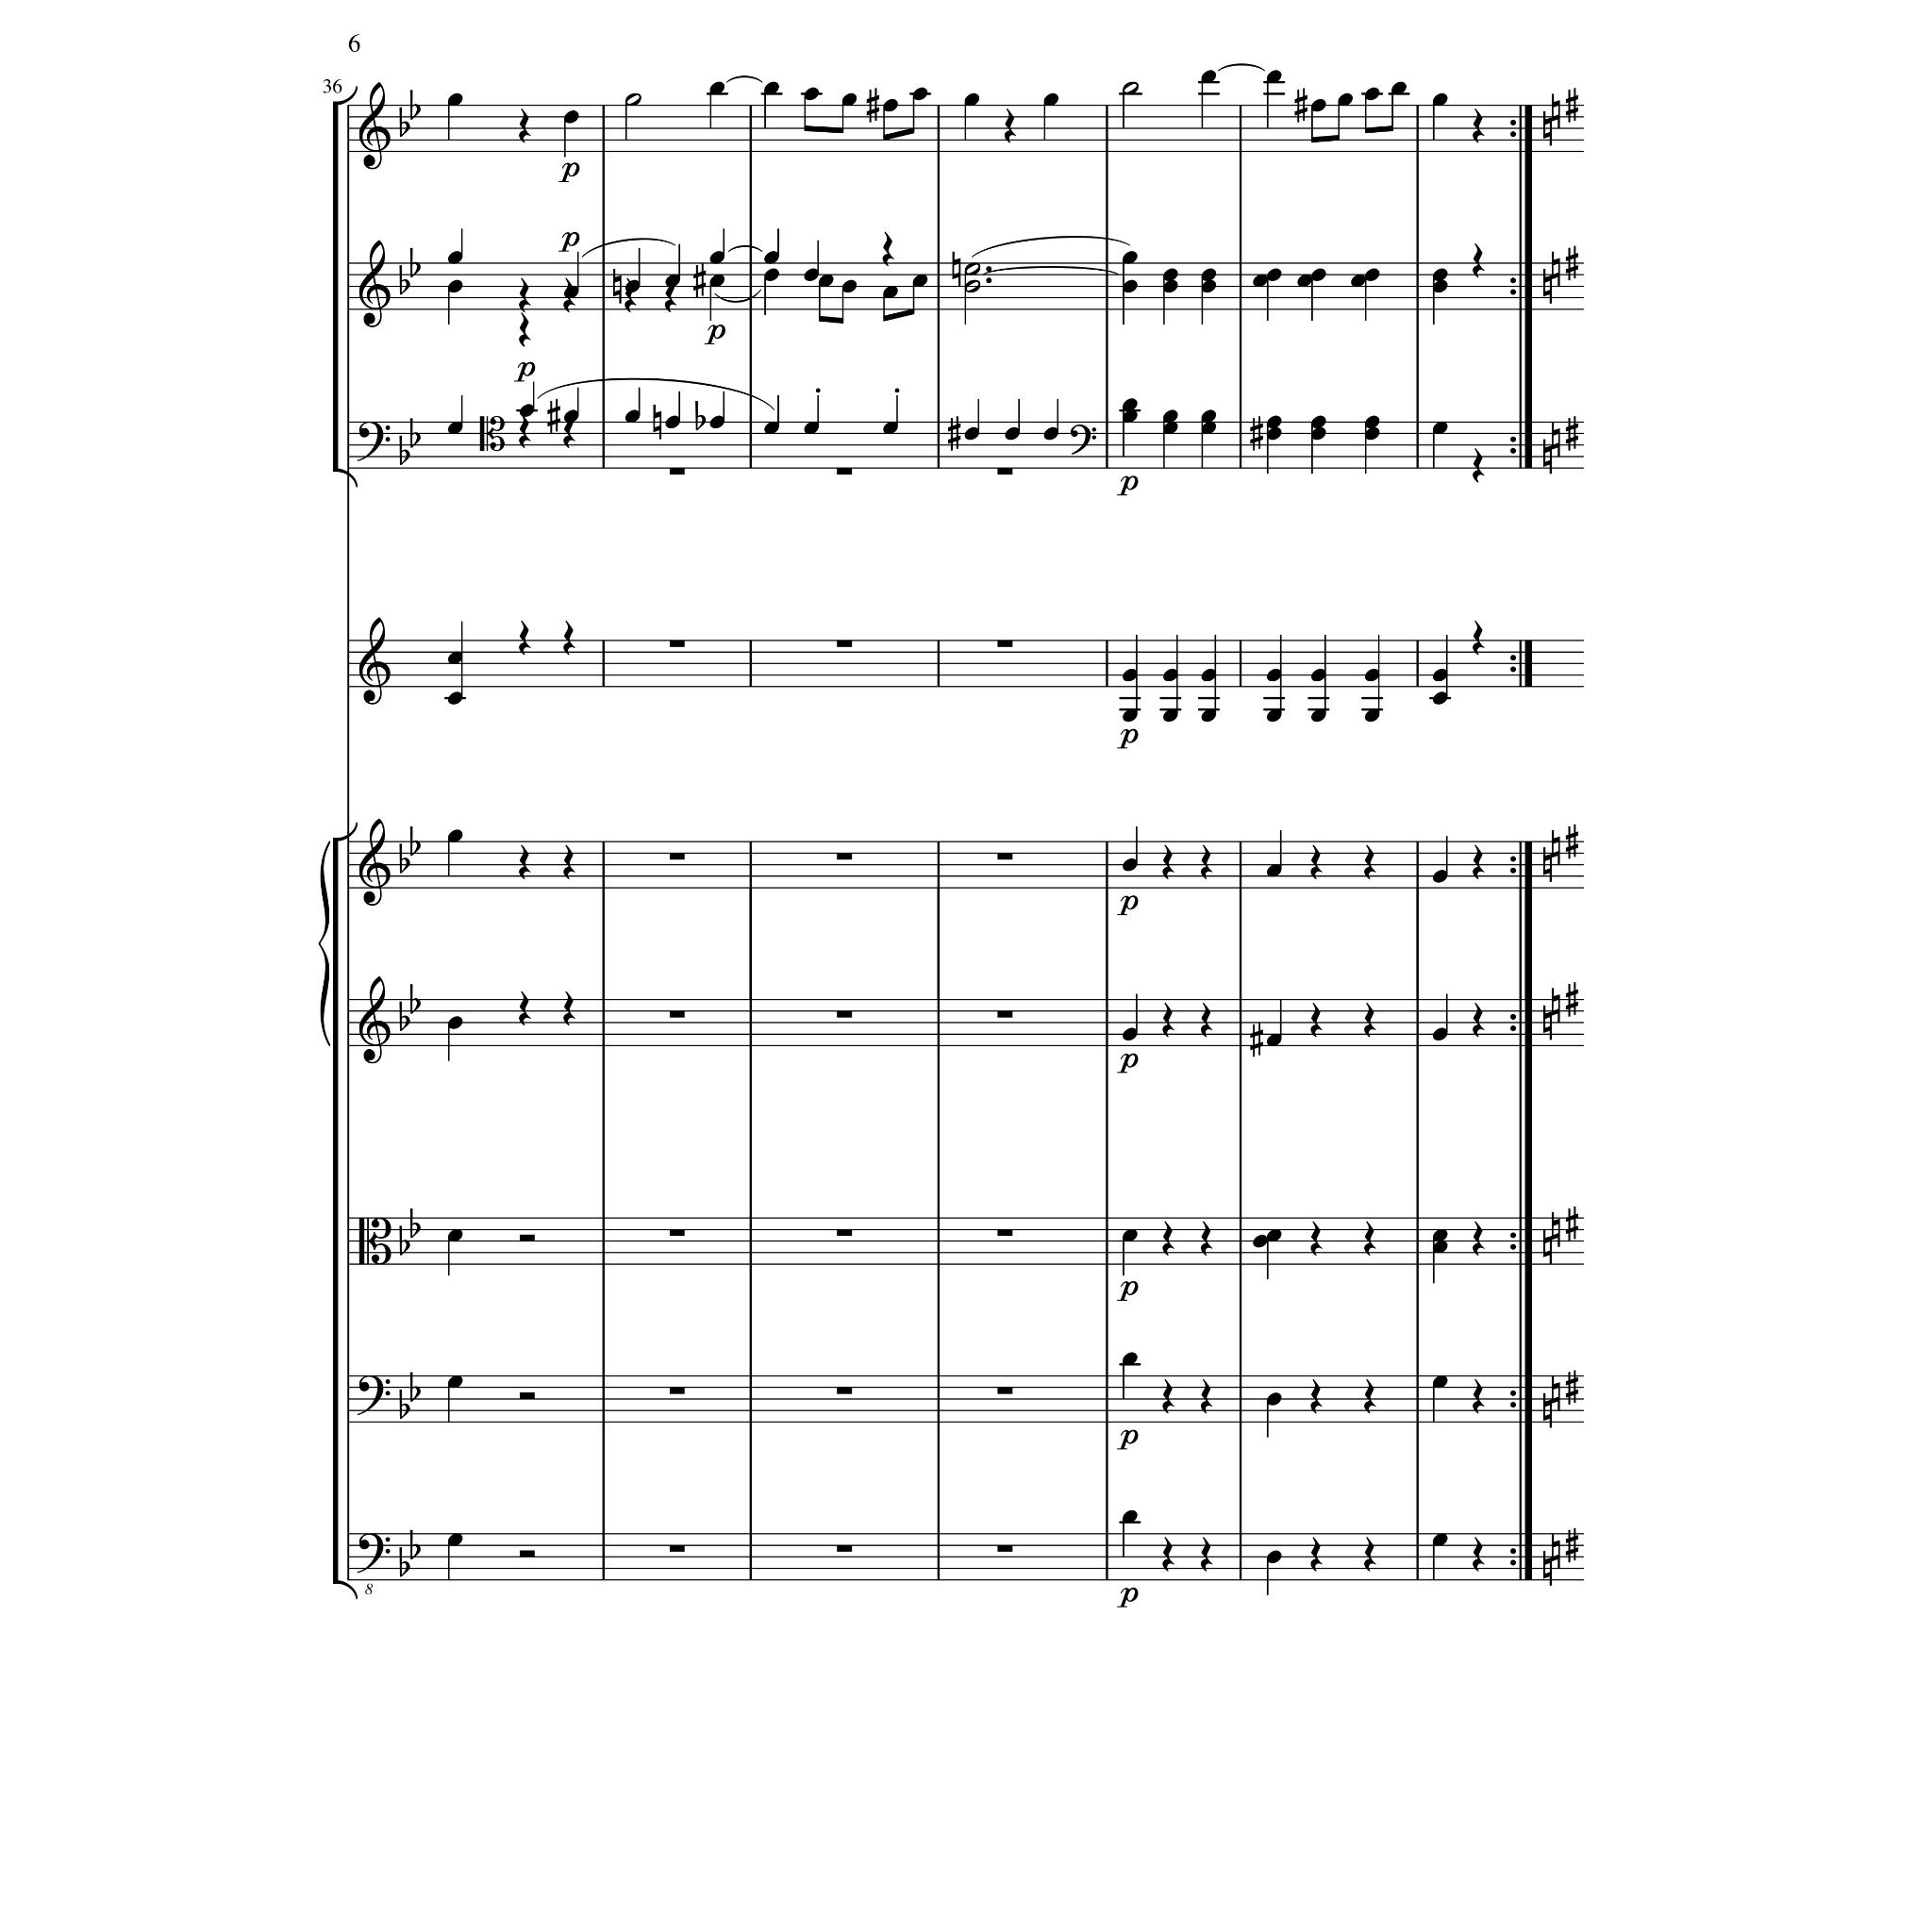brace: (317, 840, 330, 1047)
fClef: (357, 421, 391, 462), (357, 1534, 391, 1574), (357, 1375, 391, 1415)
gClef: (358, 818, 391, 907), (358, 975, 391, 1064), (358, 617, 391, 706), (358, 240, 391, 328), (358, 82, 391, 171)
noteheadBlack: (1162, 409, 1179, 425), (1200, 409, 1217, 425), (1200, 70, 1217, 85), (1266, 70, 1281, 85), (564, 409, 579, 425), (564, 285, 579, 300), (564, 109, 579, 125), (625, 409, 640, 425), (1123, 409, 1138, 425), (883, 285, 898, 300), (1309, 99, 1326, 112), (1309, 669, 1326, 682), (1296, 275, 1313, 288), (1309, 269, 1326, 282), (1309, 427, 1326, 441), (1309, 416, 1326, 429), (1309, 709, 1326, 723), (1162, 669, 1179, 682), (1162, 709, 1179, 723), (1162, 422, 1179, 435), (1162, 269, 1179, 282), (1162, 280, 1179, 293), (1200, 269, 1217, 282), (1200, 669, 1217, 682), (1200, 709, 1217, 723), (1200, 422, 1217, 435), (1200, 280, 1217, 293), (1391, 82, 1407, 95), (664, 416, 681, 429), (664, 275, 681, 288), (447, 251, 464, 264), (447, 93, 464, 107), (447, 280, 464, 293), (519, 405, 536, 418), (447, 1533, 464, 1546), (447, 1375, 464, 1389), (447, 1229, 464, 1242), (447, 1016, 464, 1029), (447, 830, 464, 843), (447, 652, 464, 665), (447, 691, 464, 705), (447, 422, 464, 435), (911, 275, 928, 288), (911, 88, 928, 101), (1004, 427, 1021, 441), (817, 275, 834, 288), (1253, 275, 1268, 288), (1266, 269, 1281, 282), (1266, 1392, 1281, 1406), (1266, 1551, 1281, 1564), (1266, 1229, 1281, 1242), (1253, 1235, 1268, 1248), (1266, 1034, 1281, 1047), (1266, 864, 1281, 877), (1266, 669, 1281, 682), (1266, 709, 1281, 723), (1266, 416, 1281, 429), (1266, 427, 1281, 441), (1432, 1241, 1447, 1254), (1432, 1028, 1447, 1041), (1432, 870, 1447, 883), (1432, 669, 1447, 682), (1432, 691, 1447, 705), (1432, 422, 1447, 435), (1432, 269, 1447, 282), (1432, 280, 1447, 293), (1432, 93, 1447, 107), (1364, 709, 1379, 723), (1364, 416, 1379, 429), (1364, 427, 1379, 441), (1364, 269, 1379, 282), (1351, 275, 1366, 288), (1364, 88, 1379, 101), (1364, 669, 1379, 682), (1338, 93, 1353, 107), (1432, 1229, 1447, 1242), (1432, 1533, 1447, 1546), (1432, 1375, 1447, 1389), (625, 280, 640, 293), (964, 427, 979, 441), (964, 93, 979, 107), (1123, 1510, 1138, 1524), (1123, 1353, 1138, 1366), (1123, 1229, 1138, 1242), (1123, 1028, 1138, 1041), (1043, 427, 1058, 441), (1043, 93, 1058, 107), (1123, 280, 1138, 293), (1123, 858, 1138, 872), (1123, 669, 1138, 682), (1123, 709, 1138, 723), (1123, 399, 1138, 412), (1123, 251, 1138, 264), (709, 416, 724, 429), (709, 275, 724, 288), (709, 251, 724, 264), (709, 82, 724, 95), (764, 422, 779, 435), (764, 269, 779, 282), (764, 251, 779, 264), (764, 82, 779, 95), (841, 280, 857, 293), (841, 93, 857, 107), (883, 422, 898, 435), (883, 99, 898, 112), (804, 422, 819, 435), (804, 88, 819, 101), (804, 269, 819, 282)
noteheadHalf: (625, 93, 641, 107), (964, 263, 981, 276), (964, 280, 981, 293), (1122, 82, 1139, 95)
restHalf: (519, 1550, 536, 1557), (519, 1392, 536, 1400), (519, 1234, 536, 1241)
restQuarter: (1309, 1537, 1323, 1573), (1309, 1378, 1323, 1414), (1309, 1221, 1323, 1257), (1309, 1002, 1323, 1038), (1162, 1002, 1175, 1038), (1162, 1537, 1175, 1573), (1162, 1378, 1175, 1414), (1162, 1221, 1175, 1257), (1200, 1537, 1213, 1573), (1200, 1378, 1213, 1414), (1200, 1221, 1213, 1257), (1200, 1002, 1213, 1038), (1472, 1537, 1485, 1573), (1472, 1378, 1485, 1414), (1472, 1221, 1485, 1257), (1472, 1002, 1485, 1038), (1472, 620, 1485, 656), (1472, 448, 1485, 484), (1472, 243, 1485, 279), (1472, 108, 1485, 144), (562, 991, 575, 1026), (562, 620, 575, 656), (562, 413, 575, 449), (562, 277, 575, 313), (1004, 108, 1017, 144), (1309, 845, 1323, 879), (1162, 845, 1175, 879), (1200, 845, 1213, 879), (1472, 845, 1485, 879), (562, 845, 575, 879), (1364, 1537, 1375, 1573), (1364, 1378, 1375, 1414), (1364, 1221, 1375, 1257), (1364, 1002, 1375, 1038), (664, 277, 675, 313), (625, 277, 636, 313), (519, 620, 530, 656), (519, 413, 530, 449), (519, 312, 530, 348), (519, 277, 530, 313), (519, 108, 530, 144), (519, 991, 530, 1026), (883, 231, 894, 267), (1364, 845, 1375, 879), (519, 845, 530, 879)
restWhole: (836, 1010, 853, 1018), (836, 468, 853, 475), (836, 641, 853, 648), (836, 853, 853, 860), (836, 1229, 853, 1237), (836, 1388, 853, 1395), (836, 1545, 853, 1553), (668, 468, 685, 475), (668, 641, 685, 648), (668, 853, 685, 860), (668, 1010, 685, 1018), (668, 1229, 685, 1237), (668, 1388, 685, 1395), (668, 1545, 685, 1553), (996, 468, 1013, 475), (996, 641, 1013, 648), (996, 853, 1013, 860), (996, 1010, 1013, 1018), (996, 1229, 1013, 1237), (996, 1388, 1013, 1395), (996, 1545, 1013, 1553)
